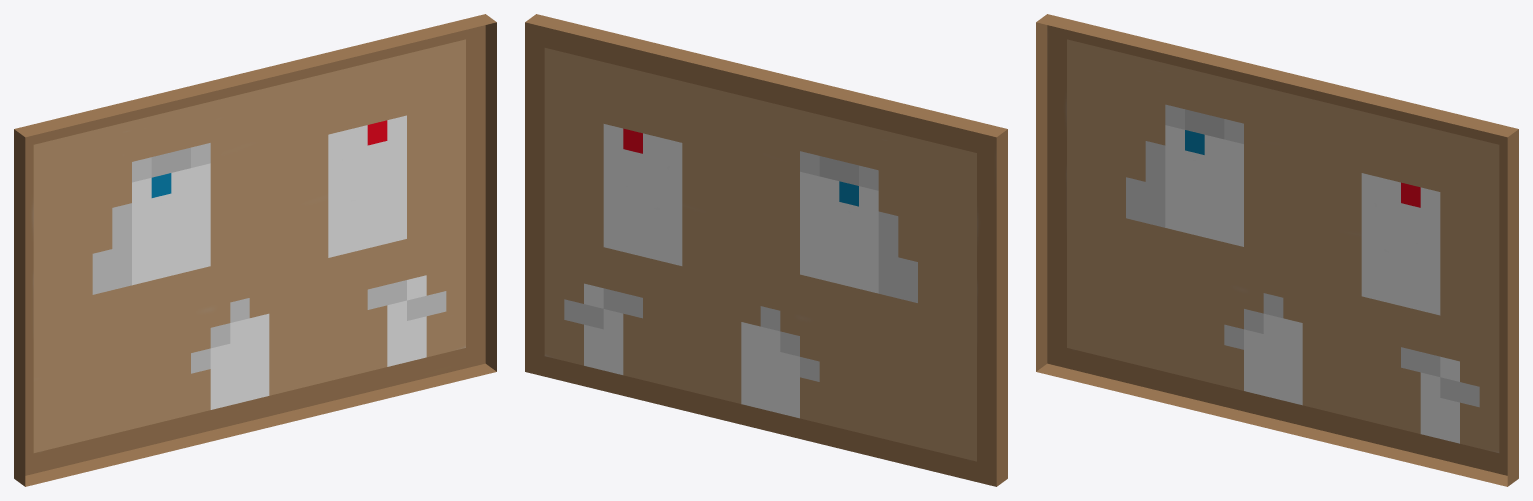
File: BulletinDecal.fbx
3 views of the same model, side by side, from view 1: azimuth 30°, elevation 25°; view 2: azimuth 150°, elevation 25°; view 3: azimuth 330°, elevation 25° (orthographic).
Parts seen in each view (by area): view 1: Bulletin; view 2: Bulletin; view 3: Bulletin.
Boxes of the visible parts, <box> form: Bulletin: <box>14,14,496,486</box>; Bulletin: <box>525,14,1007,486</box>; Bulletin: <box>1036,14,1518,486</box>.
Size of the model in its own units: 19.05 by 457 by 324.
